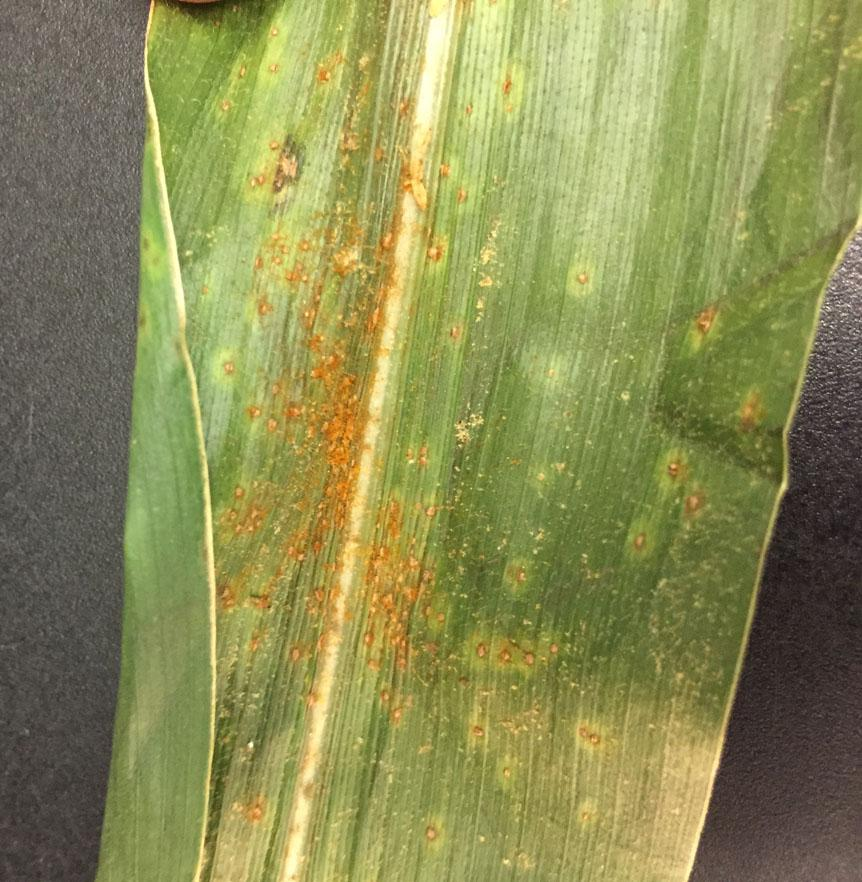Corn rust leaf: (142, 6, 862, 865)
